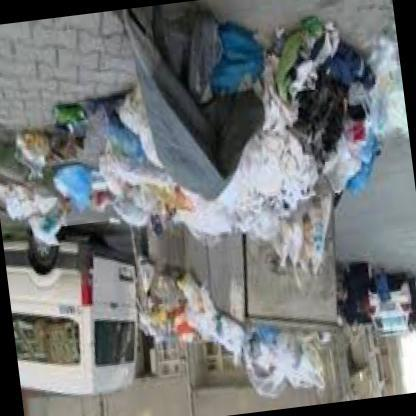Garbage: (0, 12, 415, 271), (272, 11, 384, 177), (228, 326, 342, 408), (177, 158, 272, 254), (254, 200, 336, 277), (258, 119, 321, 203), (100, 124, 166, 204), (175, 261, 221, 360), (235, 328, 289, 410), (272, 324, 326, 397), (97, 142, 155, 207), (59, 155, 102, 228), (335, 134, 383, 190), (9, 124, 58, 172), (30, 200, 69, 256), (212, 306, 244, 372), (168, 307, 200, 355), (58, 96, 90, 142), (3, 182, 34, 222), (110, 199, 147, 228), (136, 315, 160, 342)
